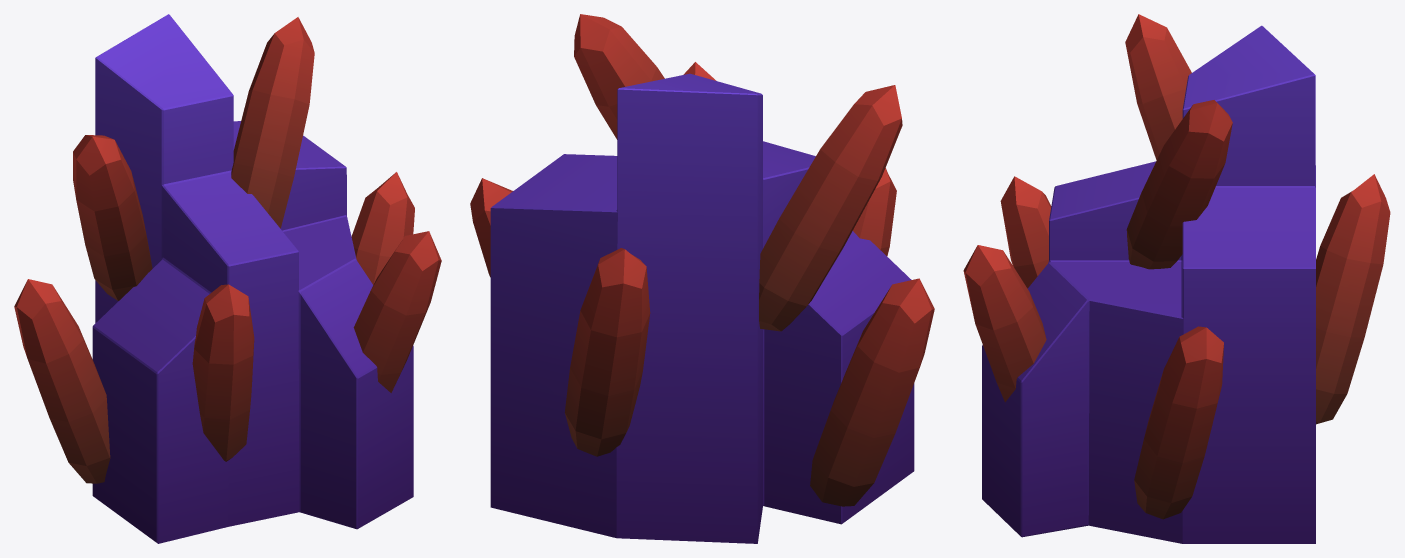
File: anp_rock_1.fbx
3 renders of one model, left to right at view 1: azimuth 30°, elevation 25°; view 2: azimuth 150°, elevation 25°; view 3: azimuth 270°, elevation 25°, orthographic. The views are drawn at different scales.
Parts seen in each view (by area): view 1: rock1; view 2: rock1; view 3: rock1.
Boxes of the visible parts, <box> form: rock1: <box>14,14,441,543</box>; rock1: <box>470,14,934,543</box>; rock1: <box>963,14,1390,543</box>.
Bounding box in the file's own units: 112 × 111 × 101.
